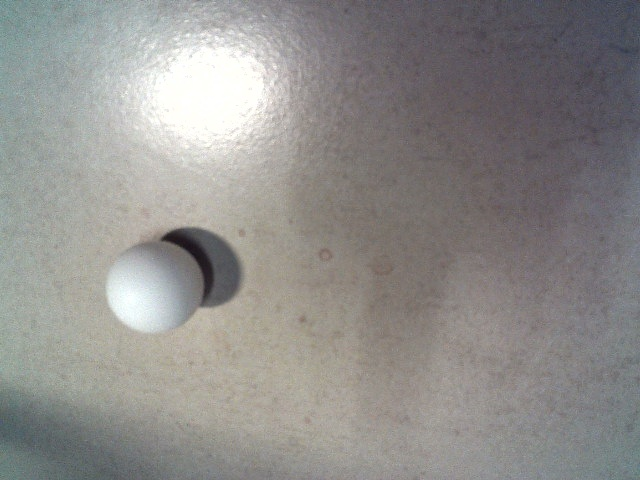pingpong: (104, 240, 205, 335)
